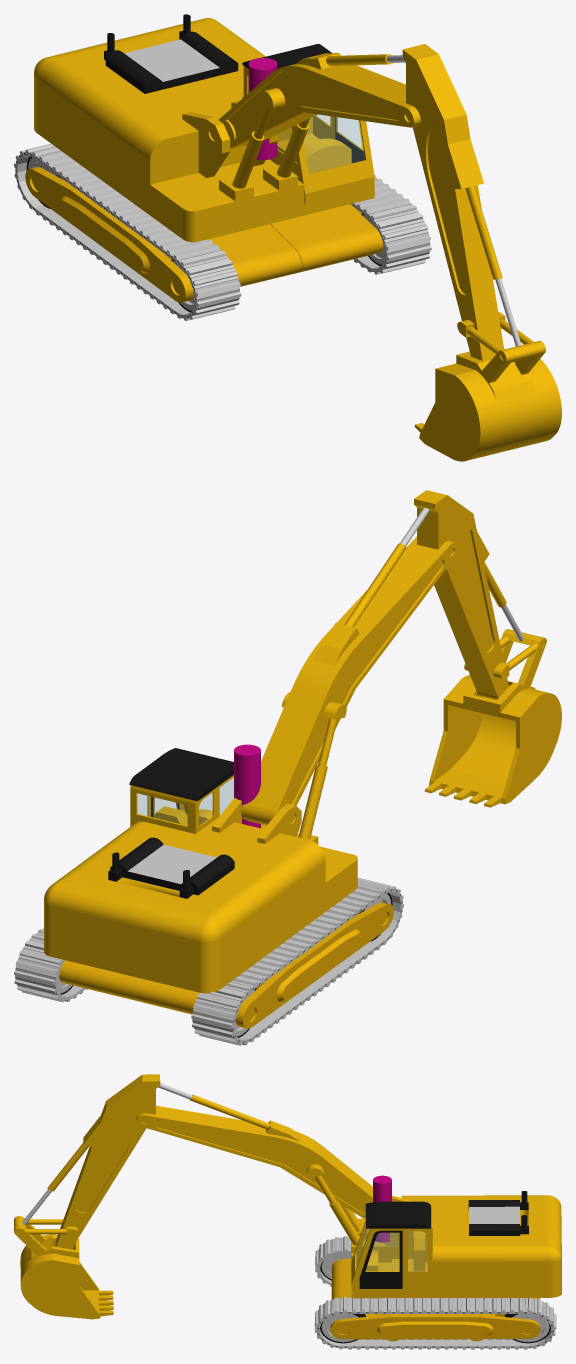
File: anExcavator.obj
The picture shows the model from 3 angles, top to bottom: view 1: azimuth 30°, elevation 25°; view 2: azimuth 150°, elevation 25°; view 3: azimuth 270°, elevation 25°; orthographic projection. The views are drawn at different scales.
Visible parts, largest first — view 1: 简单挖土机.002; view 2: 简单挖土机.002; view 3: 简单挖土机.002.
Boxes of the visible parts, x1,y1,x2,y2 form: 简单挖土机.002: (14,14,561,461); 简单挖土机.002: (14,490,561,1045); 简单挖土机.002: (14,1074,561,1349).
Bounding box in the file's own units: 4.76 × 6.55 × 14.23.
